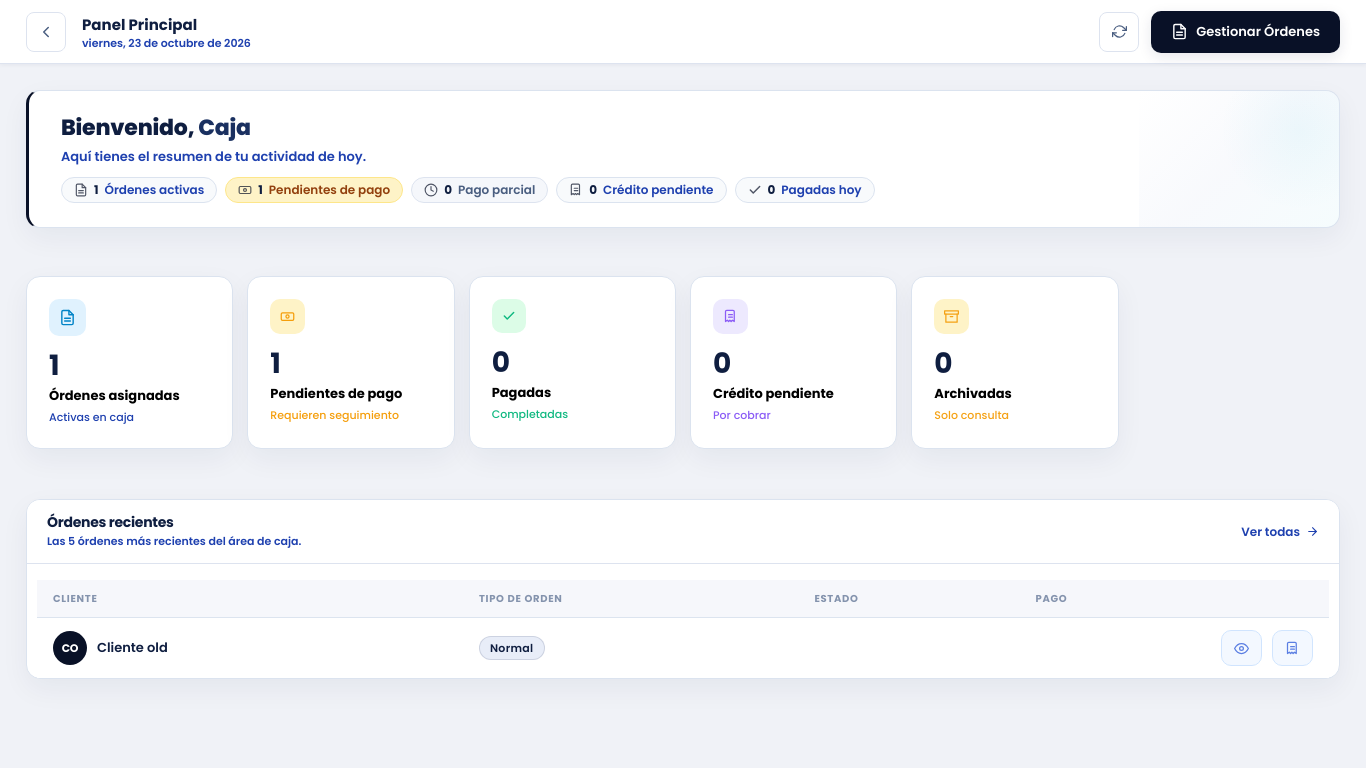
Caja order loading recovery › preserves loaded rows after a failed refresh and replaces them on retry
Expected: the text "Cliente old" is shown, [97,638,168,658]
Click the button "Gestionar Órdenes".
click(1246, 32)  # box [1151,10,1340,52]
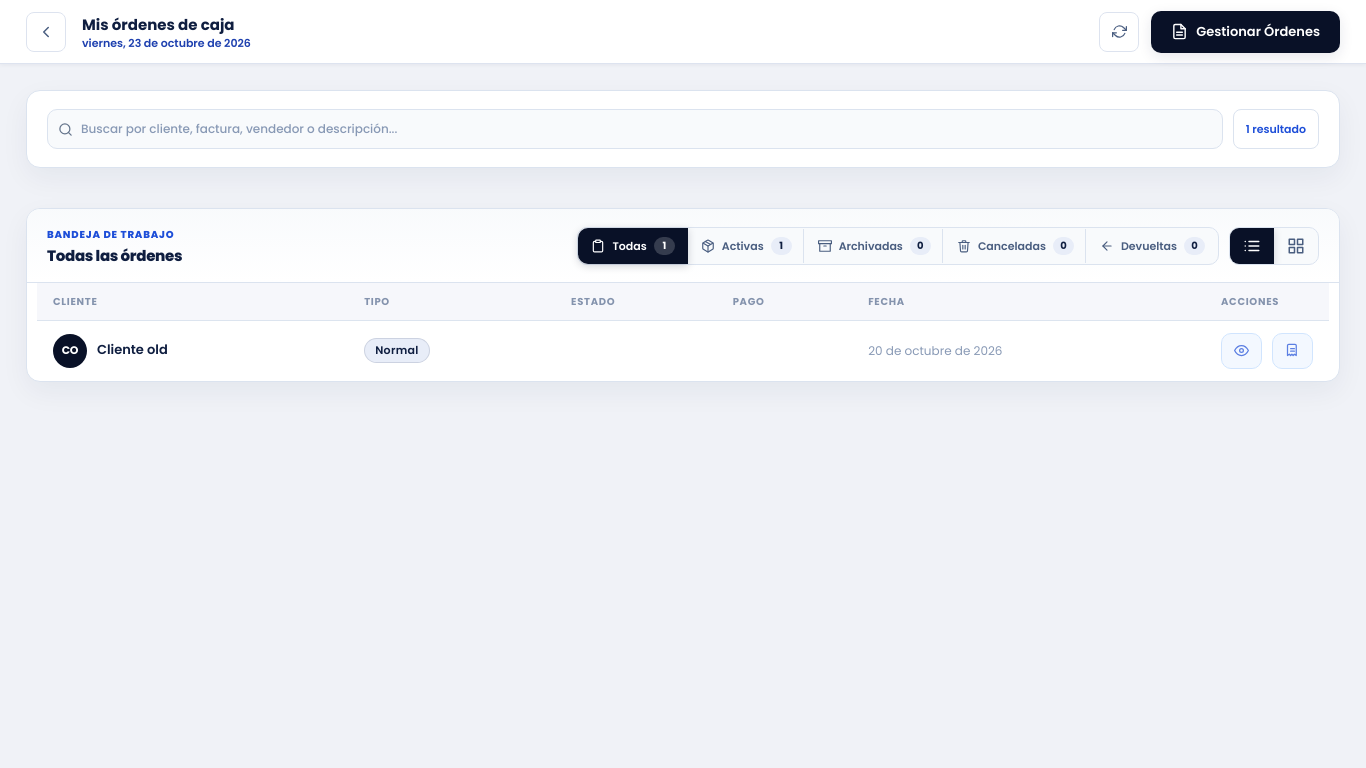
Click the button named "Recargar".
click(1119, 32)  # box [1099,12,1139,52]
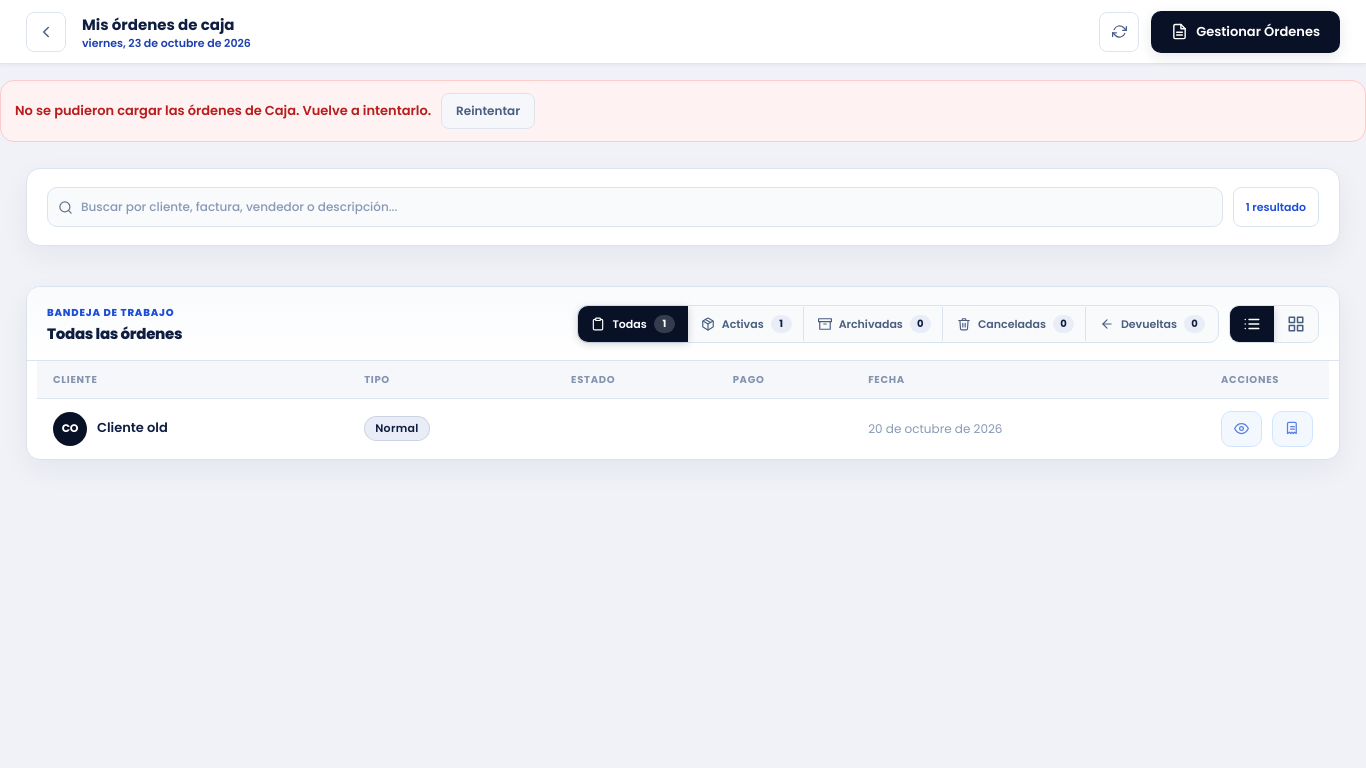
Expected: the text "Cliente old" is shown, [97,418,168,437]
Expected: the message "No se pudieron cargar las órdenes de Caja. Vuelve a intentarlo. Reintentar" is shown, [0,80,1365,142]
Click the button "Reintentar".
click(488, 111)  # box [441,93,535,129]
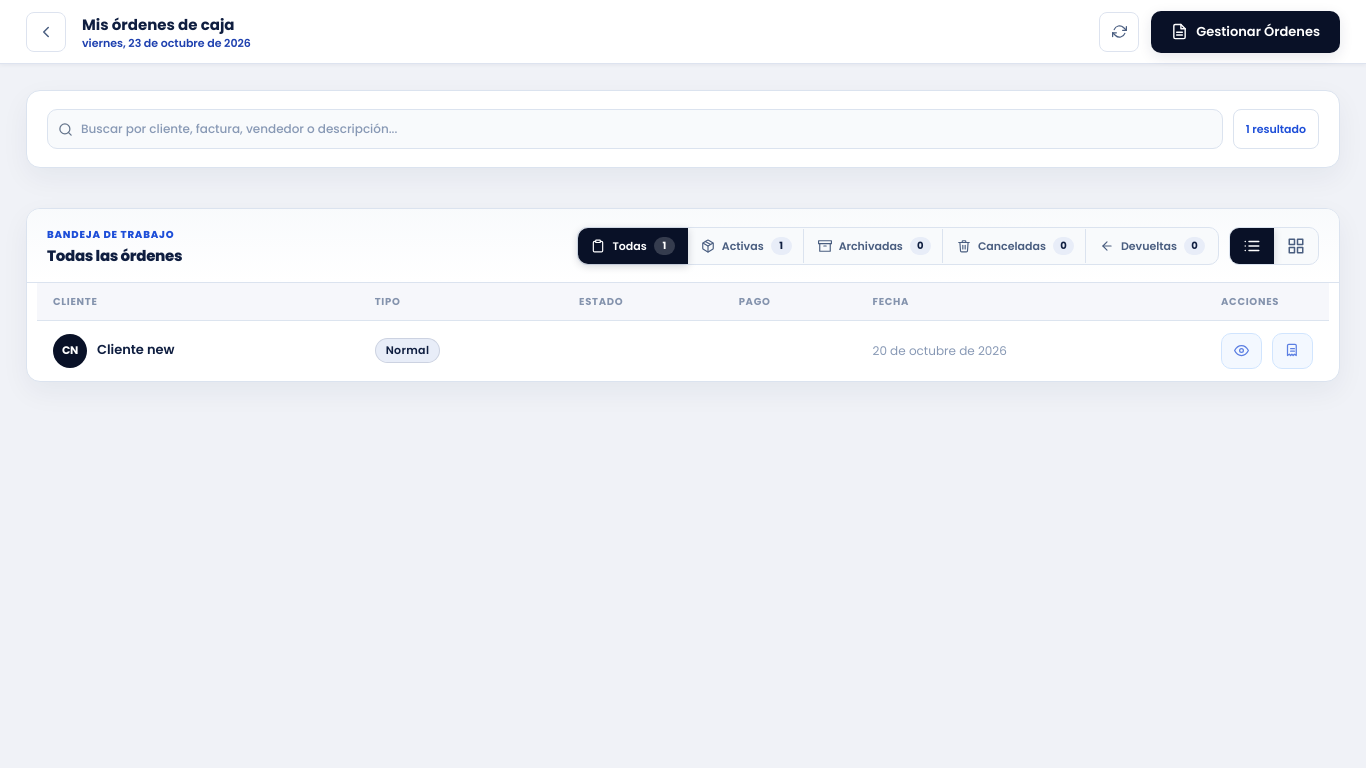
Expected: the text "Cliente new" is shown, [97,340,175,359]
Expected: the message "No se pudieron cargar las órdenes de Caja. Vuelve a intentarlo. Reintentar" is gone
Expected: the text "Cliente old" is gone
